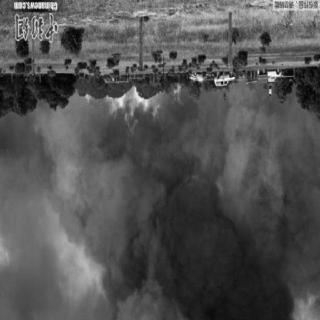Fire: (66, 74, 188, 134)
